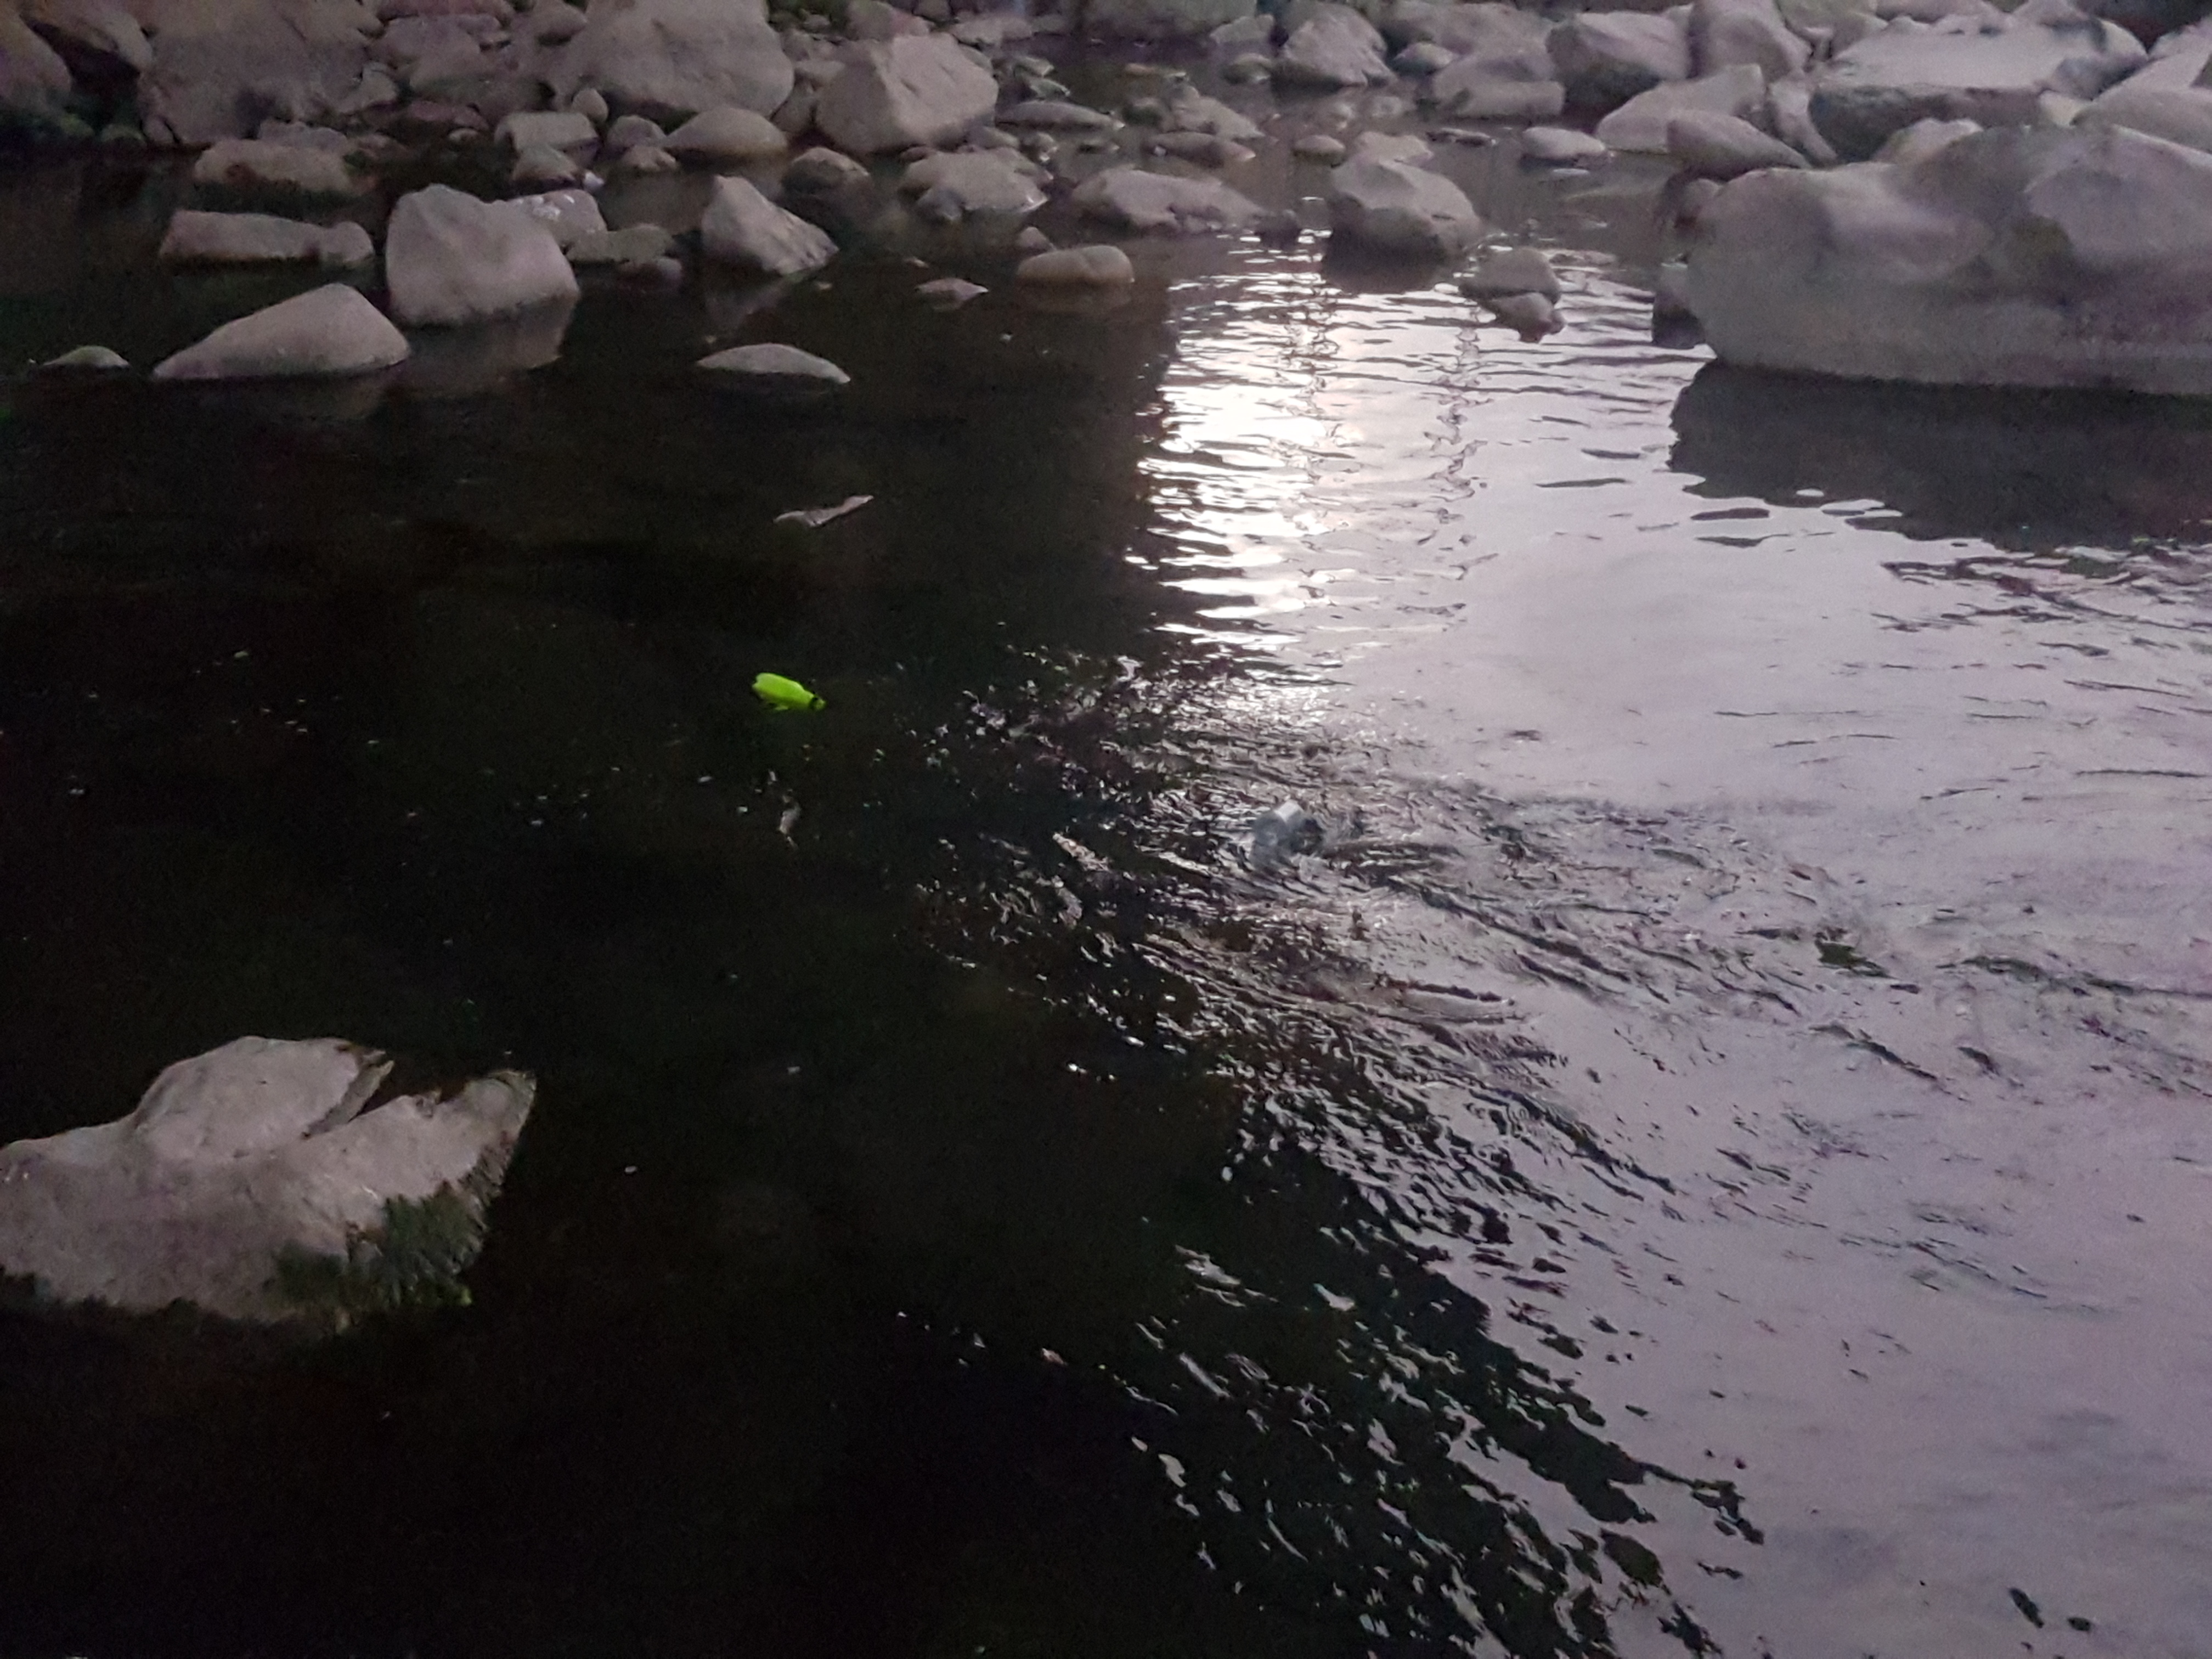Plastic Bottle: (752, 673, 824, 708), (1252, 800, 1305, 842)
